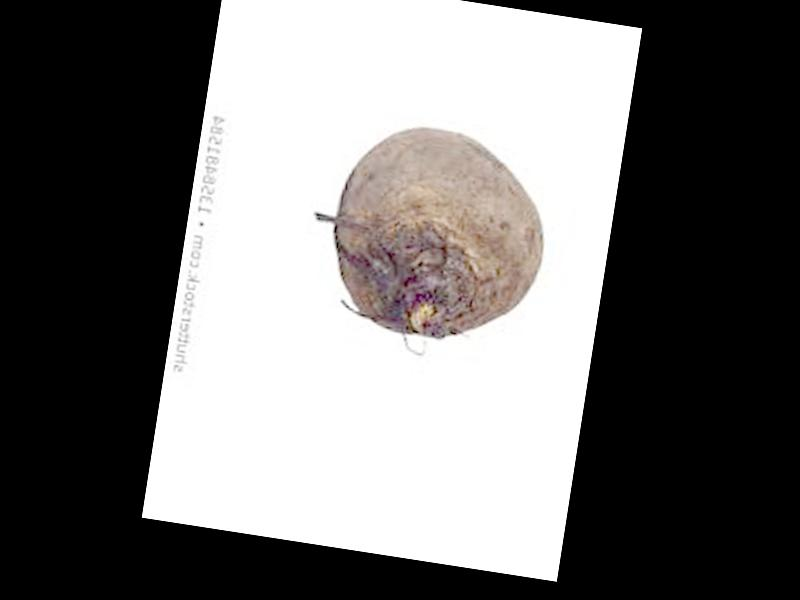Beet: (321, 113, 558, 350)
